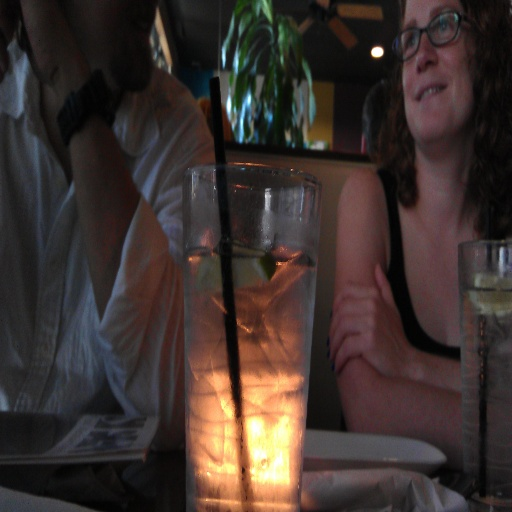hand: (325, 262, 406, 379), (20, 0, 80, 85)
